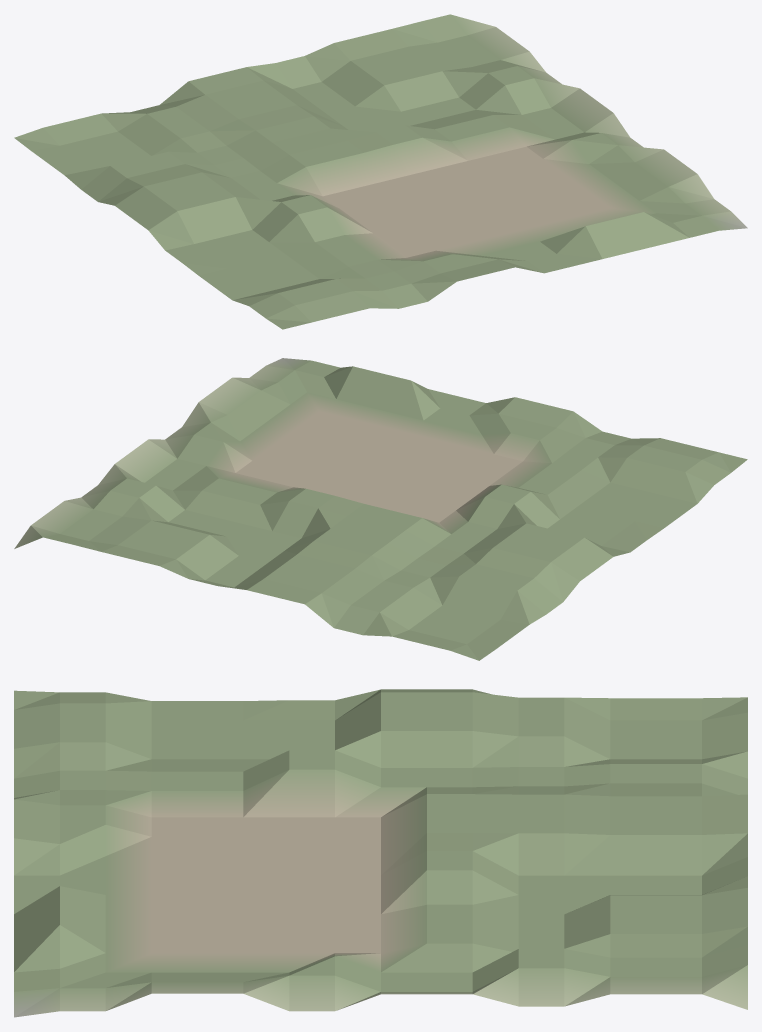
3 views of the same model, one above another, from view 1: azimuth 30°, elevation 25°; view 2: azimuth 150°, elevation 25°; view 3: azimuth 270°, elevation 25° (orthographic). The views are drawn at different scales.
Size of the model in its own units: 32 by 1.66 by 32.
